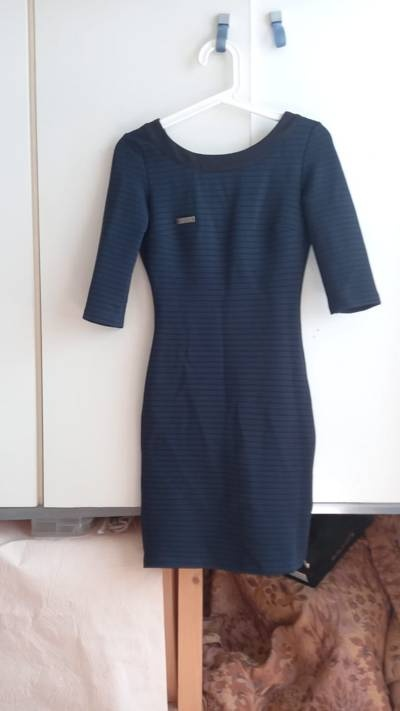Dress: (65, 85, 381, 625)
